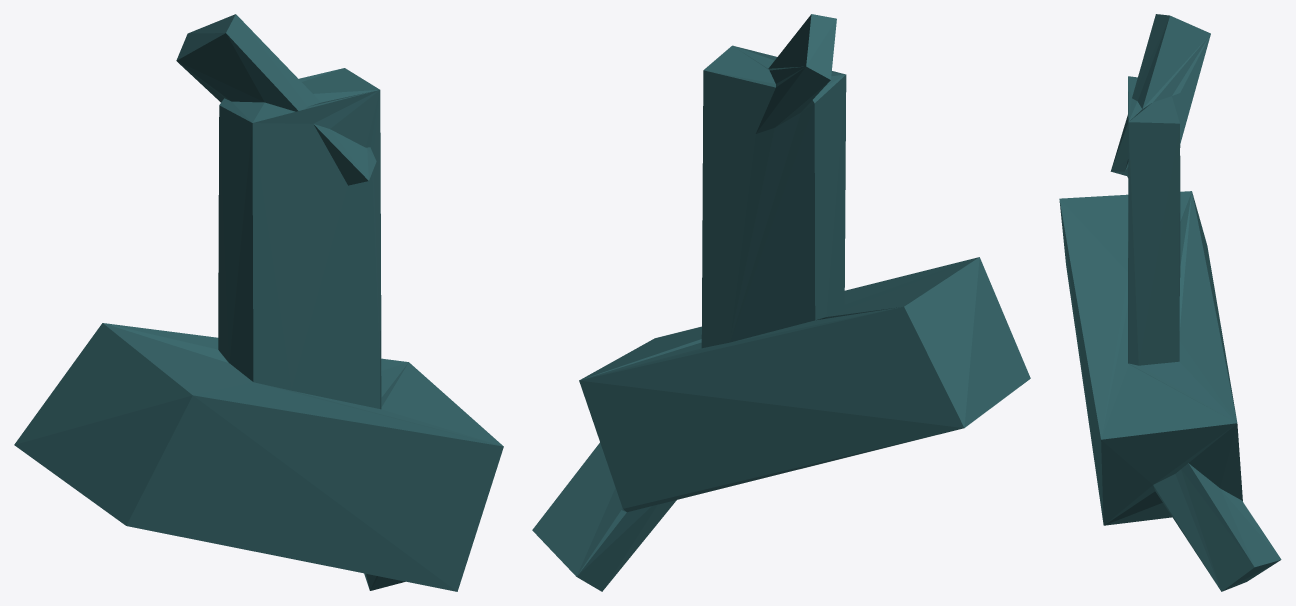
3 renders of one model, left to right at view 1: azimuth 30°, elevation 25°; view 2: azimuth 150°, elevation 25°; view 3: azimuth 270°, elevation 25°, orthographic. The views are drawn at different scales.
Parts seen in each view (by area): view 1: 313_Cube.1281; view 2: 313_Cube.1281; view 3: 313_Cube.1281.
Part boxes in pixels (left/top/right/bottom): 313_Cube.1281: left=14, top=14, right=503, bottom=591; 313_Cube.1281: left=532, top=14, right=1030, bottom=591; 313_Cube.1281: left=1059, top=14, right=1281, bottom=591.
Size of the model in its own units: 14.63 by 20.21 by 8.17.
